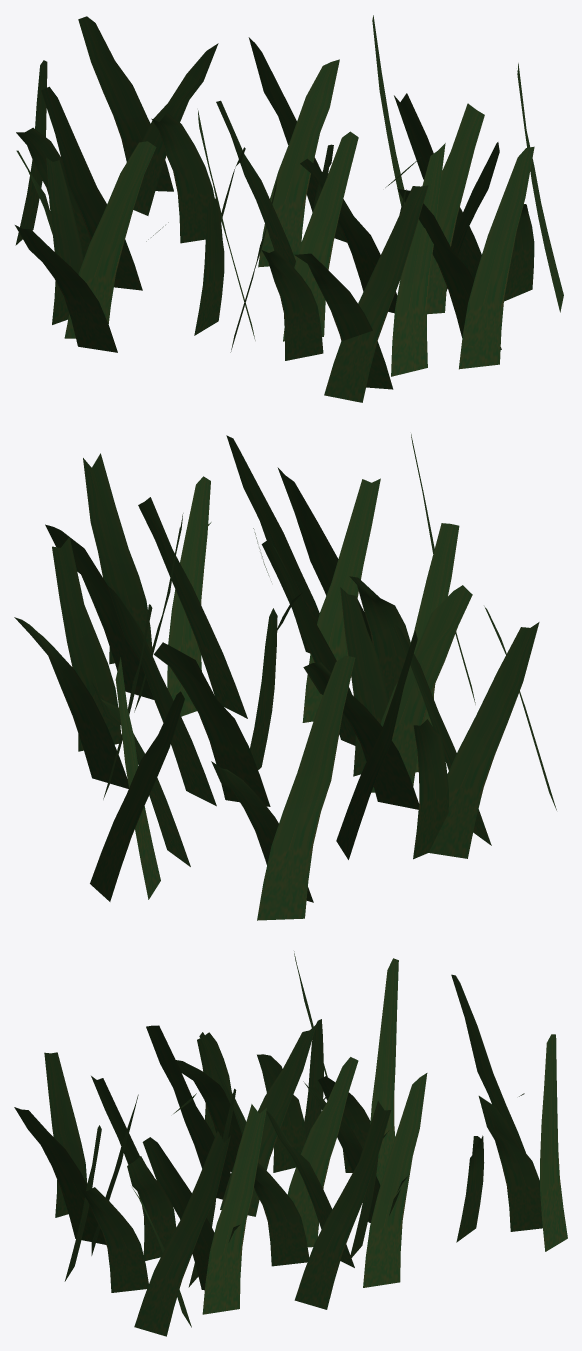
The model's file is Grass.fbx.
3 views of the same model, one above another, from view 1: azimuth 30°, elevation 25°; view 2: azimuth 150°, elevation 25°; view 3: azimuth 270°, elevation 25° (orthographic). The views are drawn at different scales.
Parts seen in each view (by area): view 1: Grass1; view 2: Grass1; view 3: Grass1.
Boxes of the visible parts, bbox=[...] form: Grass1: bbox=[15, 15, 563, 402]; Grass1: bbox=[14, 434, 556, 920]; Grass1: bbox=[14, 951, 567, 1336].
Size of the model in its own units: 24.17 by 10.14 by 25.4.
1 material, 1 textured.
